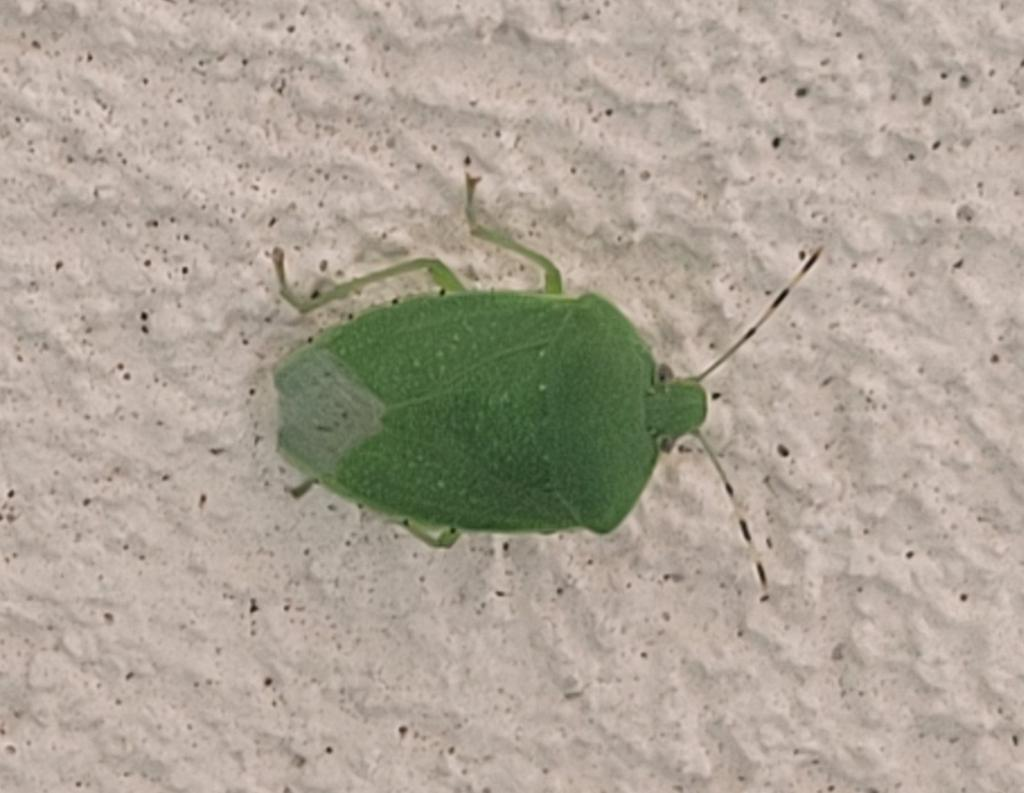stink_bugs: (178, 105, 867, 735)
